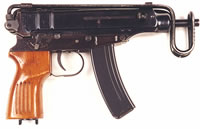rifle: (1, 3, 197, 125)
